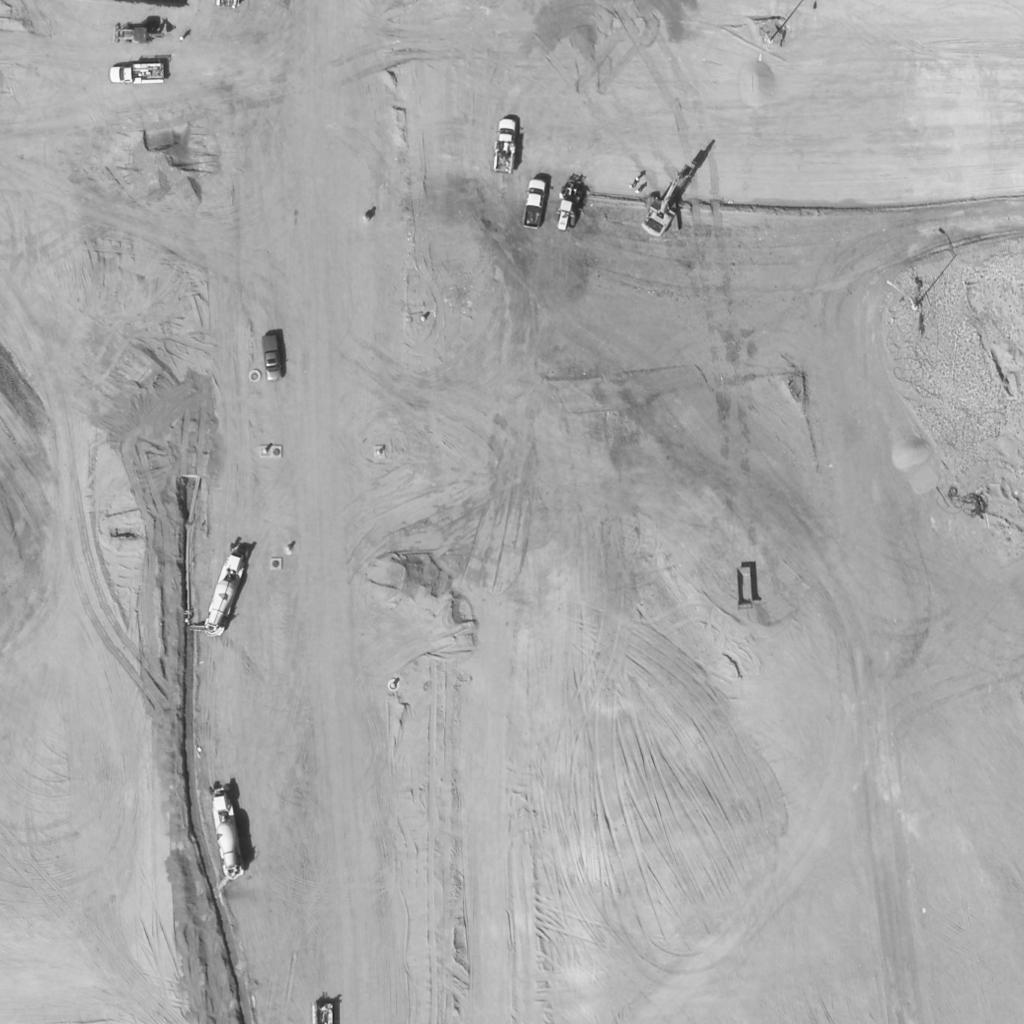vehicle: (636, 159, 704, 239), (204, 552, 252, 642), (210, 789, 246, 879), (553, 173, 587, 231), (109, 60, 167, 88), (495, 114, 517, 174), (258, 335, 284, 381), (113, 23, 171, 43), (525, 179, 547, 229)
